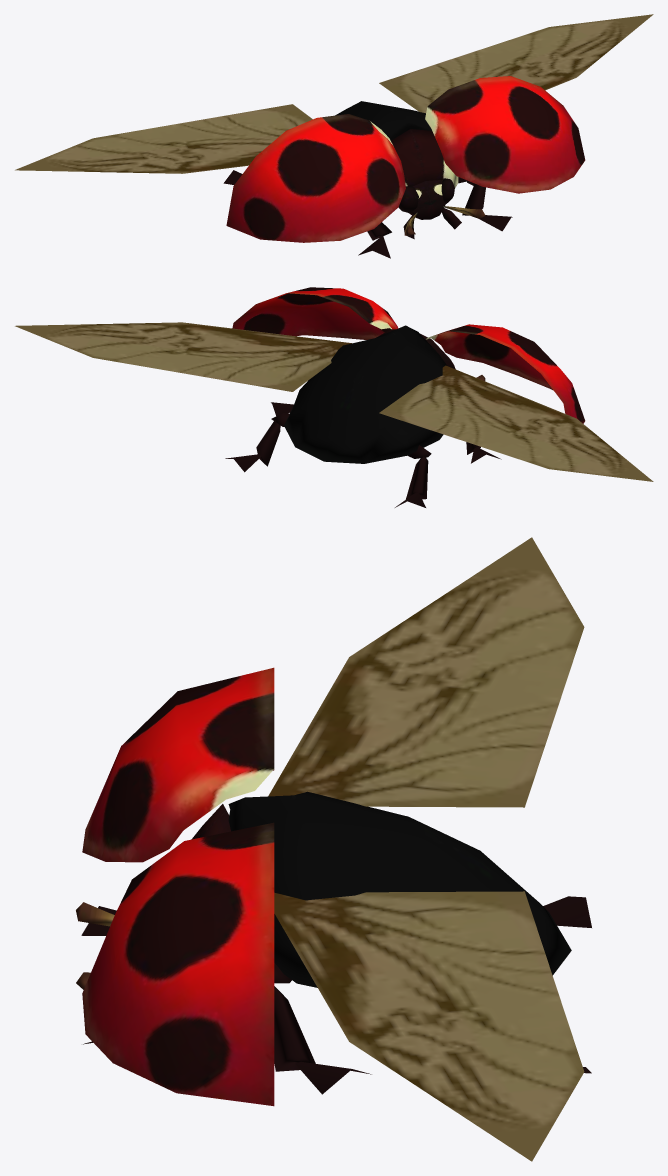
Rendered from ladybug.glb.
The picture shows the model from 3 angles, top to bottom: view 1: azimuth 30°, elevation 25°; view 2: azimuth 150°, elevation 25°; view 3: azimuth 270°, elevation 25°; orthographic projection. The views are drawn at different scales.
Parts seen in each view (by area): view 1: InsectTentoumushi_node9, InsectTentoumushi_node10; view 2: InsectTentoumushi_node9, InsectTentoumushi_node10; view 3: InsectTentoumushi_node10, InsectTentoumushi_node9.
Part boxes in pixels (x1,y1,x2,y2): InsectTentoumushi_node9: (223,76,585,258); InsectTentoumushi_node10: (15,14,653,173); InsectTentoumushi_node9: (225,287,585,507); InsectTentoumushi_node10: (15,322,653,481); InsectTentoumushi_node10: (268,537,584,1161); InsectTentoumushi_node9: (76,667,591,1106).
Bounding box in the file's own units: 4.35 × 0.7993 × 1.52.
Materials: 2 (2 with a texture image).
